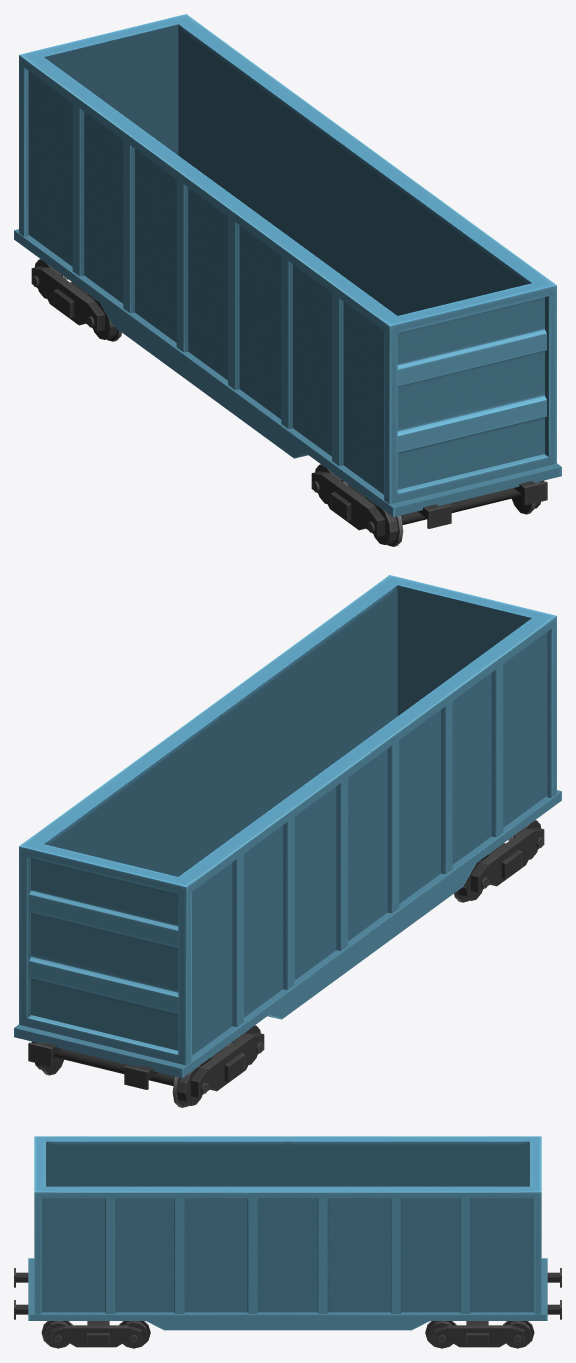
File: vagon blue.fbx
The picture shows the model from 3 angles, top to bottom: view 1: azimuth 30°, elevation 25°; view 2: azimuth 150°, elevation 25°; view 3: azimuth 270°, elevation 25°; orthographic projection. The views are drawn at different scales.
Parts seen in each view (by area): view 1: Box086; view 2: Box086; view 3: Box086.
Boxes of the visible parts, box(x1,y1,x2,y2) form: Box086: box(14, 14, 561, 546); Box086: box(14, 575, 561, 1107); Box086: box(14, 1136, 561, 1348).
Bounding box in the file's own units: 92.26 × 119 × 367.
